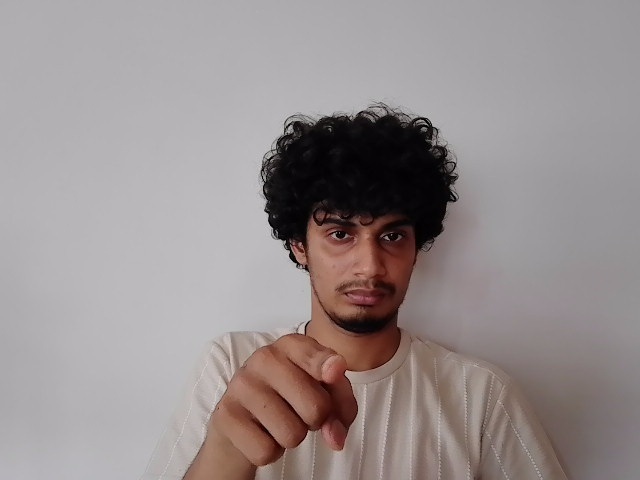you: (212, 314, 360, 459)
